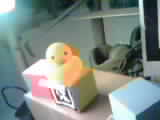duck: (41, 34, 89, 80)
